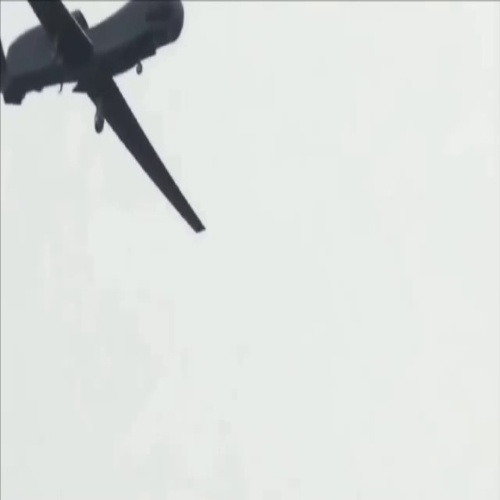uav876: (1, 1, 208, 237)
